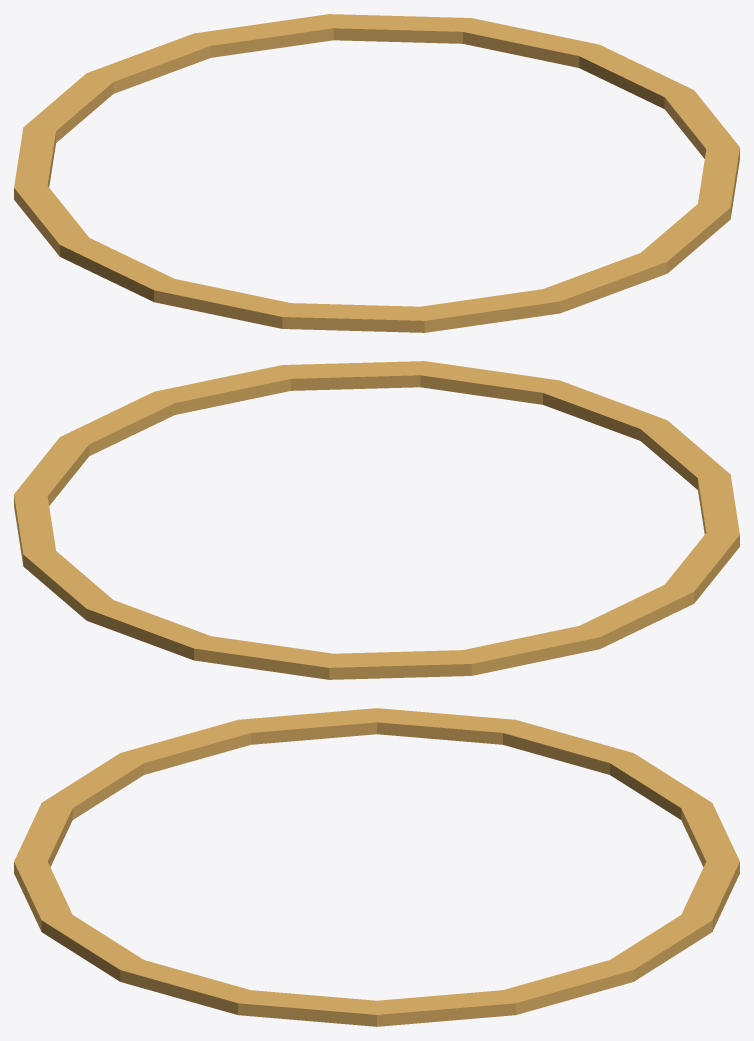
Rendered from Main_1001_obj_04.fbx.
3 renders of one model, top to bottom at view 1: azimuth 30°, elevation 25°; view 2: azimuth 150°, elevation 25°; view 3: azimuth 270°, elevation 25°, orthographic.
Visible parts, largest first — view 1: Circle; view 2: Circle; view 3: Circle.
Part boxes in pixels (x1,y1,x2,y2): Circle: [14, 14, 739, 332]; Circle: [14, 361, 739, 679]; Circle: [14, 708, 739, 1026].
Size of the model in its own units: 34.84 by 0.63 by 34.84.
